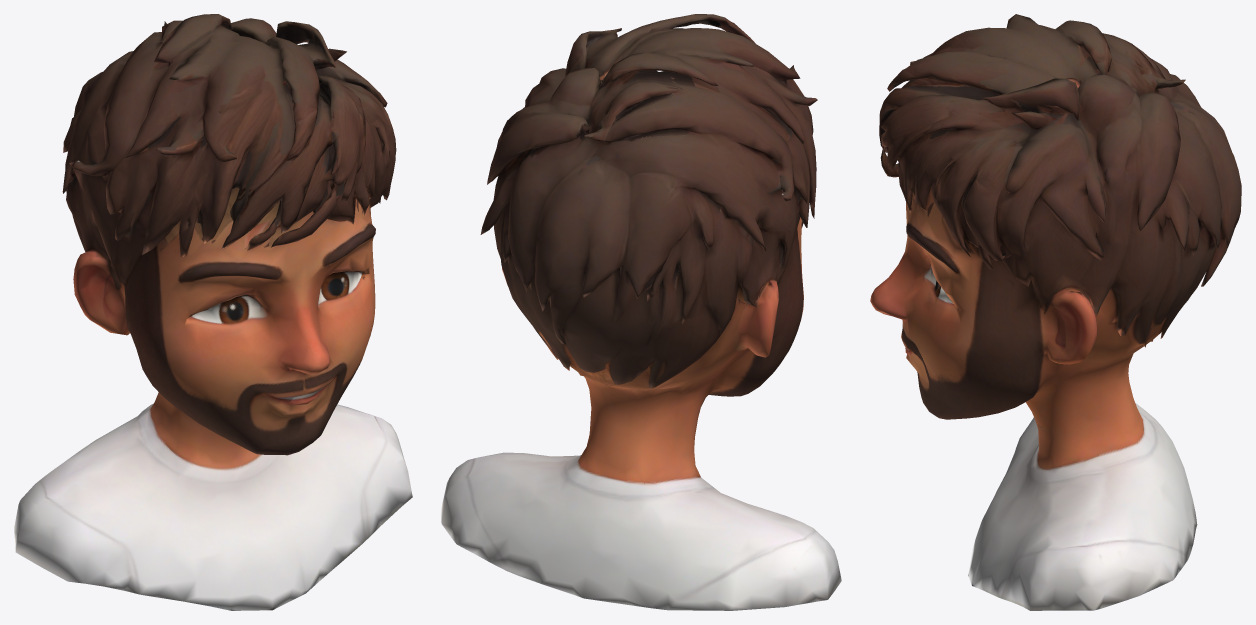
The model's file is myavatar.glb.
3 renders of one model, left to right at view 1: azimuth 30°, elevation 25°; view 2: azimuth 150°, elevation 25°; view 3: azimuth 270°, elevation 25°, orthographic. The views are drawn at different scales.
Size of the model in its own units: 1.46 by 2 by 1.24.
1 material, 1 textured.
